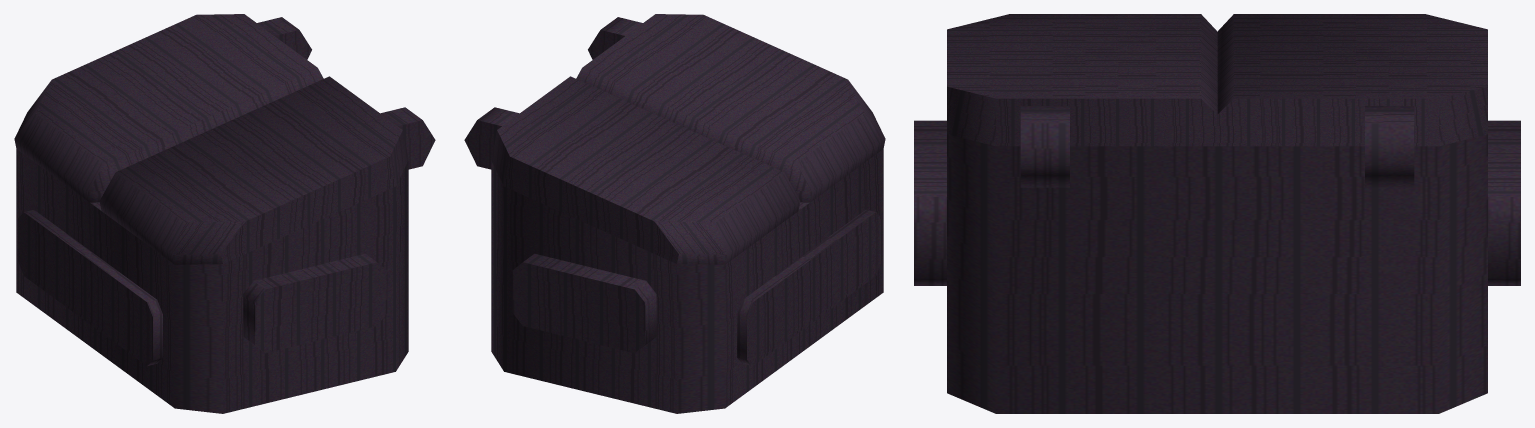
Rendered from dumpster.raw.glb.
The picture shows the model from 3 angles, left to right: view 1: azimuth 30°, elevation 25°; view 2: azimuth 150°, elevation 25°; view 3: azimuth 270°, elevation 25°; orthographic projection. The views are drawn at different scales.
Visible parts, largest first — view 1: dumpster; view 2: dumpster; view 3: dumpster.
Boxes of the visible parts, <box> form: dumpster: <box>14,14,435,413</box>; dumpster: <box>464,14,885,413</box>; dumpster: <box>914,14,1520,413</box>.
Size of the model in its own units: 1.44 by 1.1 by 1.94.
Materials: 1 (1 with a texture image).
